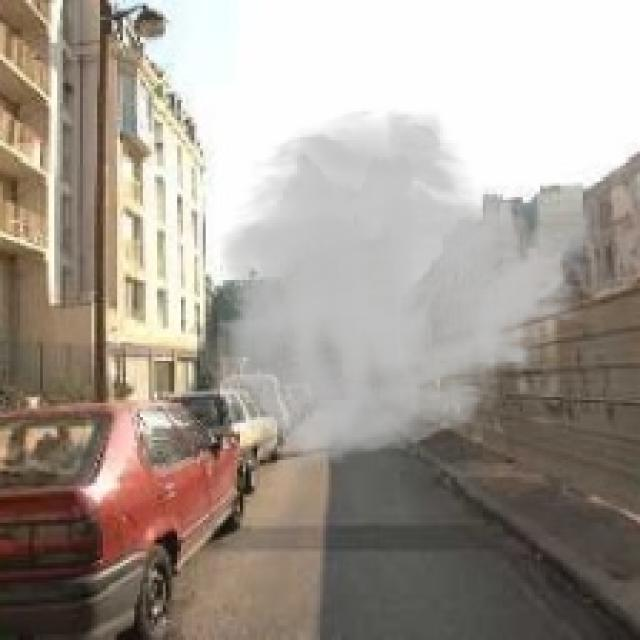Smoke: (200, 106, 594, 468)
